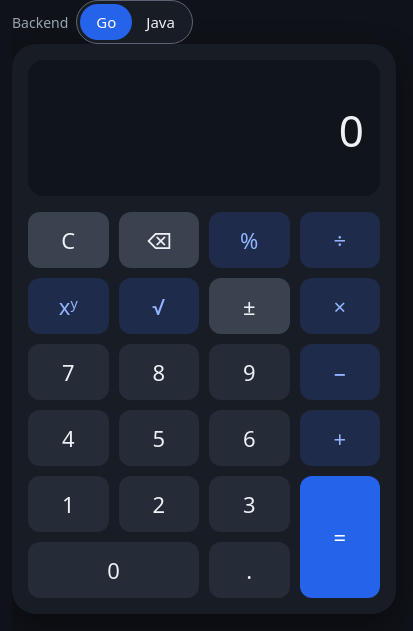
Scenario: CalculatorPanel backend routing › computes on go by default
This screenshot has width=413, height=631.
Step 1. Click the button "6" → (249, 438), box 209,410 -> 290,466
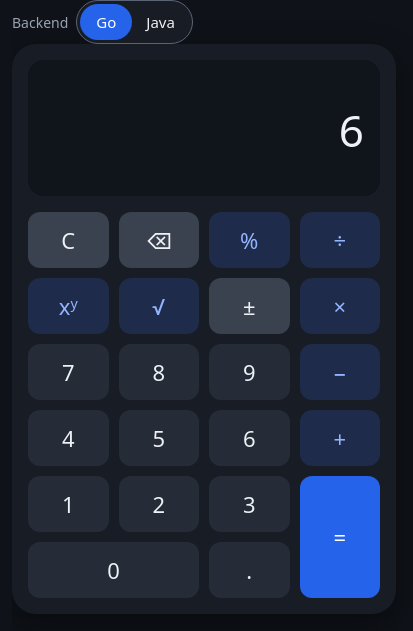
Step 2. Click the button named "divide" → (340, 240), box 300,212 -> 380,268
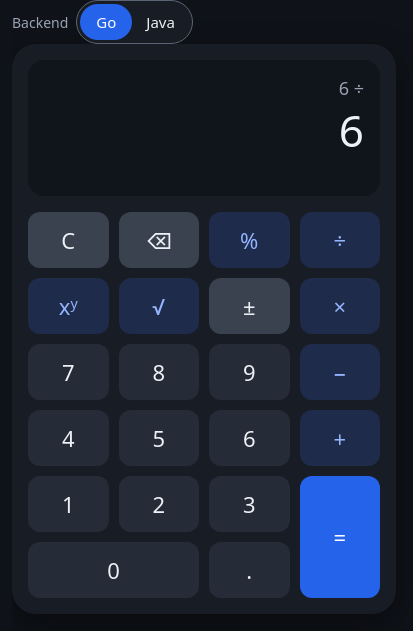
Step 3. Click the button "3" → (249, 504), box 209,476 -> 290,532
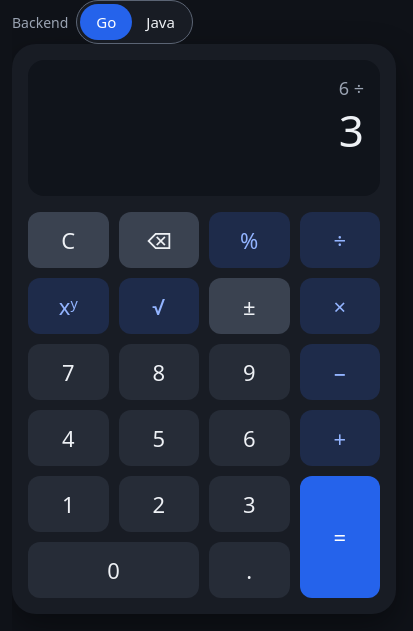
Step 4. Click the button named "equals" → (340, 537), box 300,476 -> 380,598
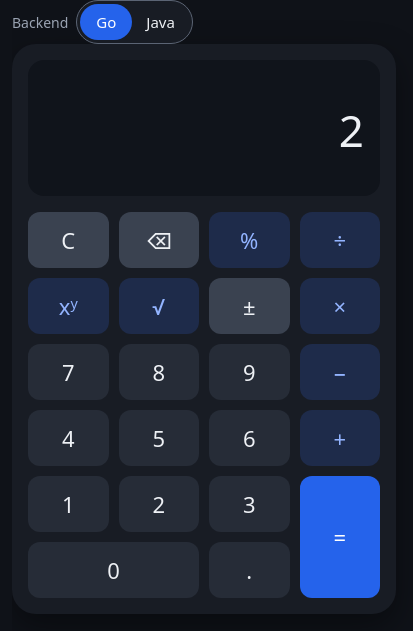
Check: the text "2" is shown, box 339,100 -> 364,160
